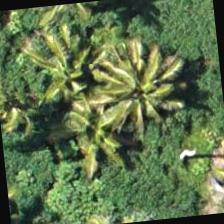Kelapa_Sawit: (44, 79, 143, 178), (89, 36, 188, 134), (0, 50, 52, 146)
